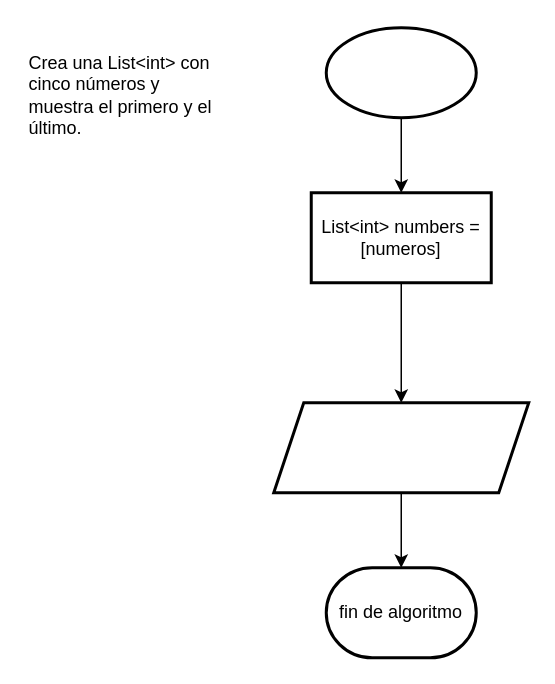
Image size: 555x684. Some labels were removed from this diagram. Here are the shapes that lost their labels. From the top down, the centre of each, then its label:
At (400,72): "main".
At (401,447): "output de primer y ultimo nombre por indice".
